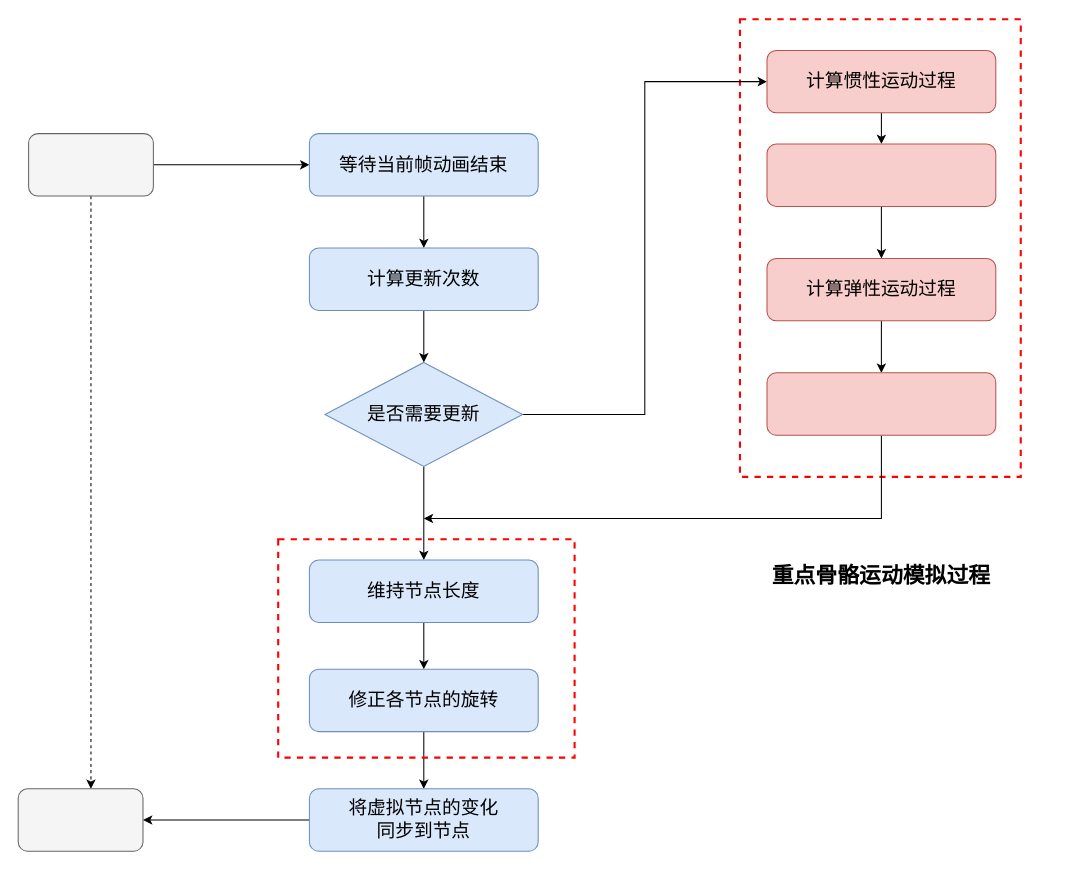
Some shapes in this 1066 by 869 pixel diagram are drawn without their labels. Each missing label, with the box of its shape:
当前帧开始: (28, 133, 153, 196)
当前帧结束: (17, 788, 143, 851)
计算刚性运动过程: (766, 372, 996, 435)
计算受力运动过程: (766, 143, 996, 206)
